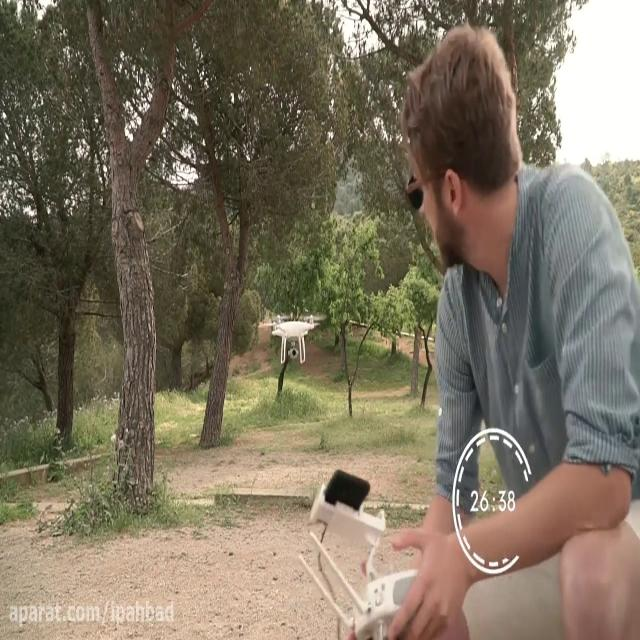drone: (264, 311, 326, 367)
